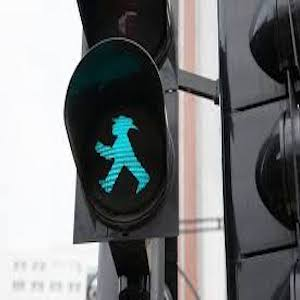green: (88, 108, 159, 202)
